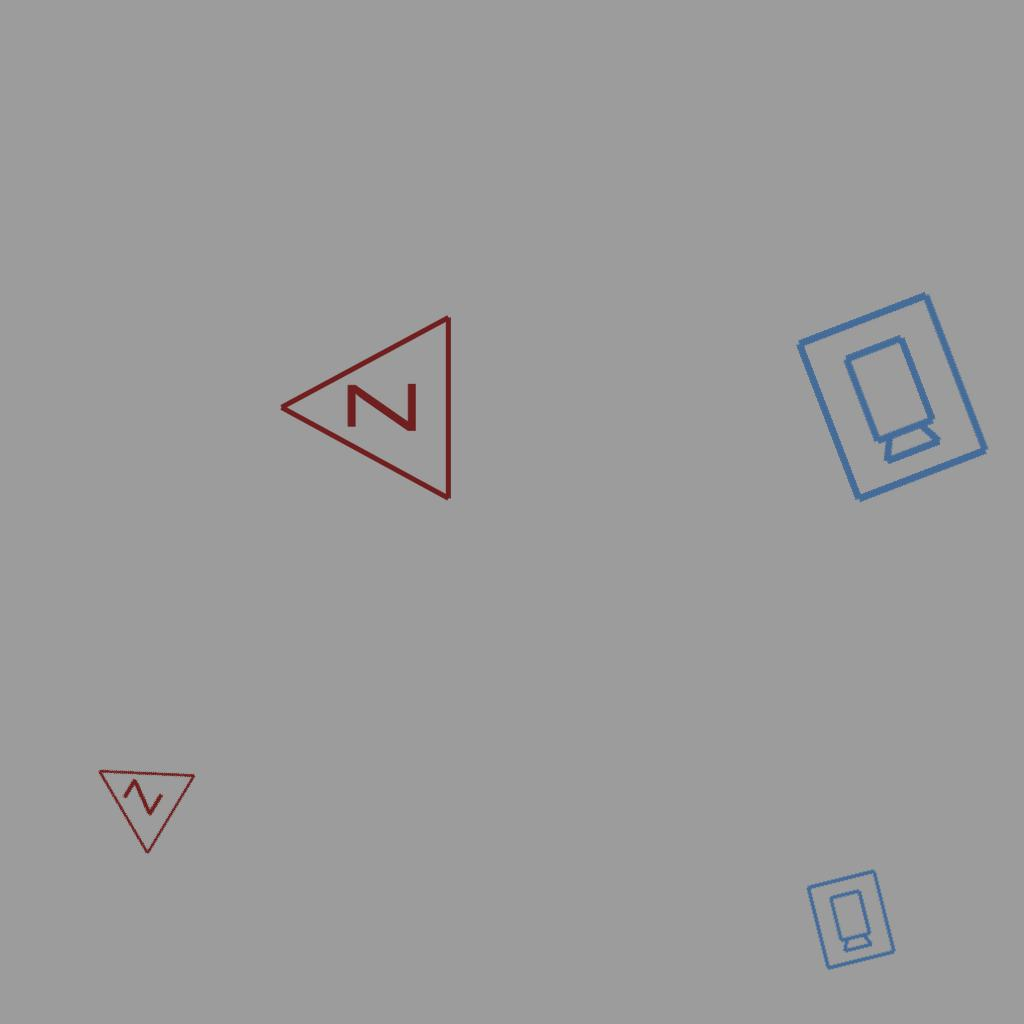KFO_Kamera_mit_Festobjektiv: (786, 284, 996, 510), (802, 866, 899, 973)
Zimmersignalleuchte: (266, 312, 466, 508), (66, 726, 204, 862)
